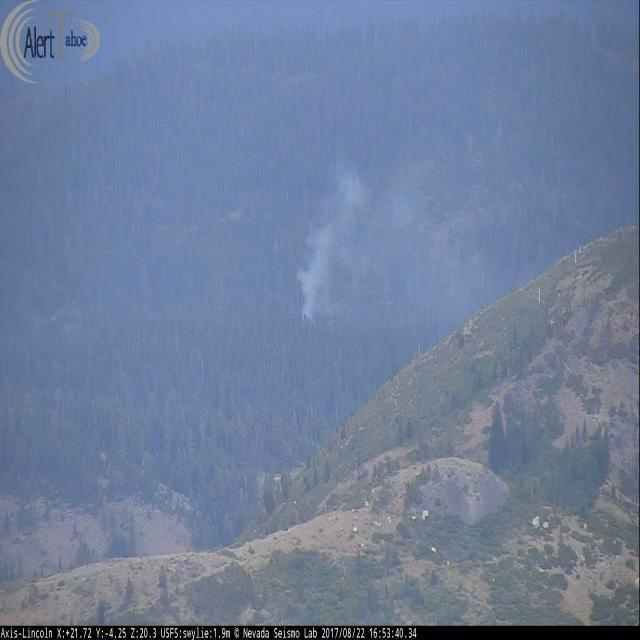smoke: (302, 156, 365, 322)
